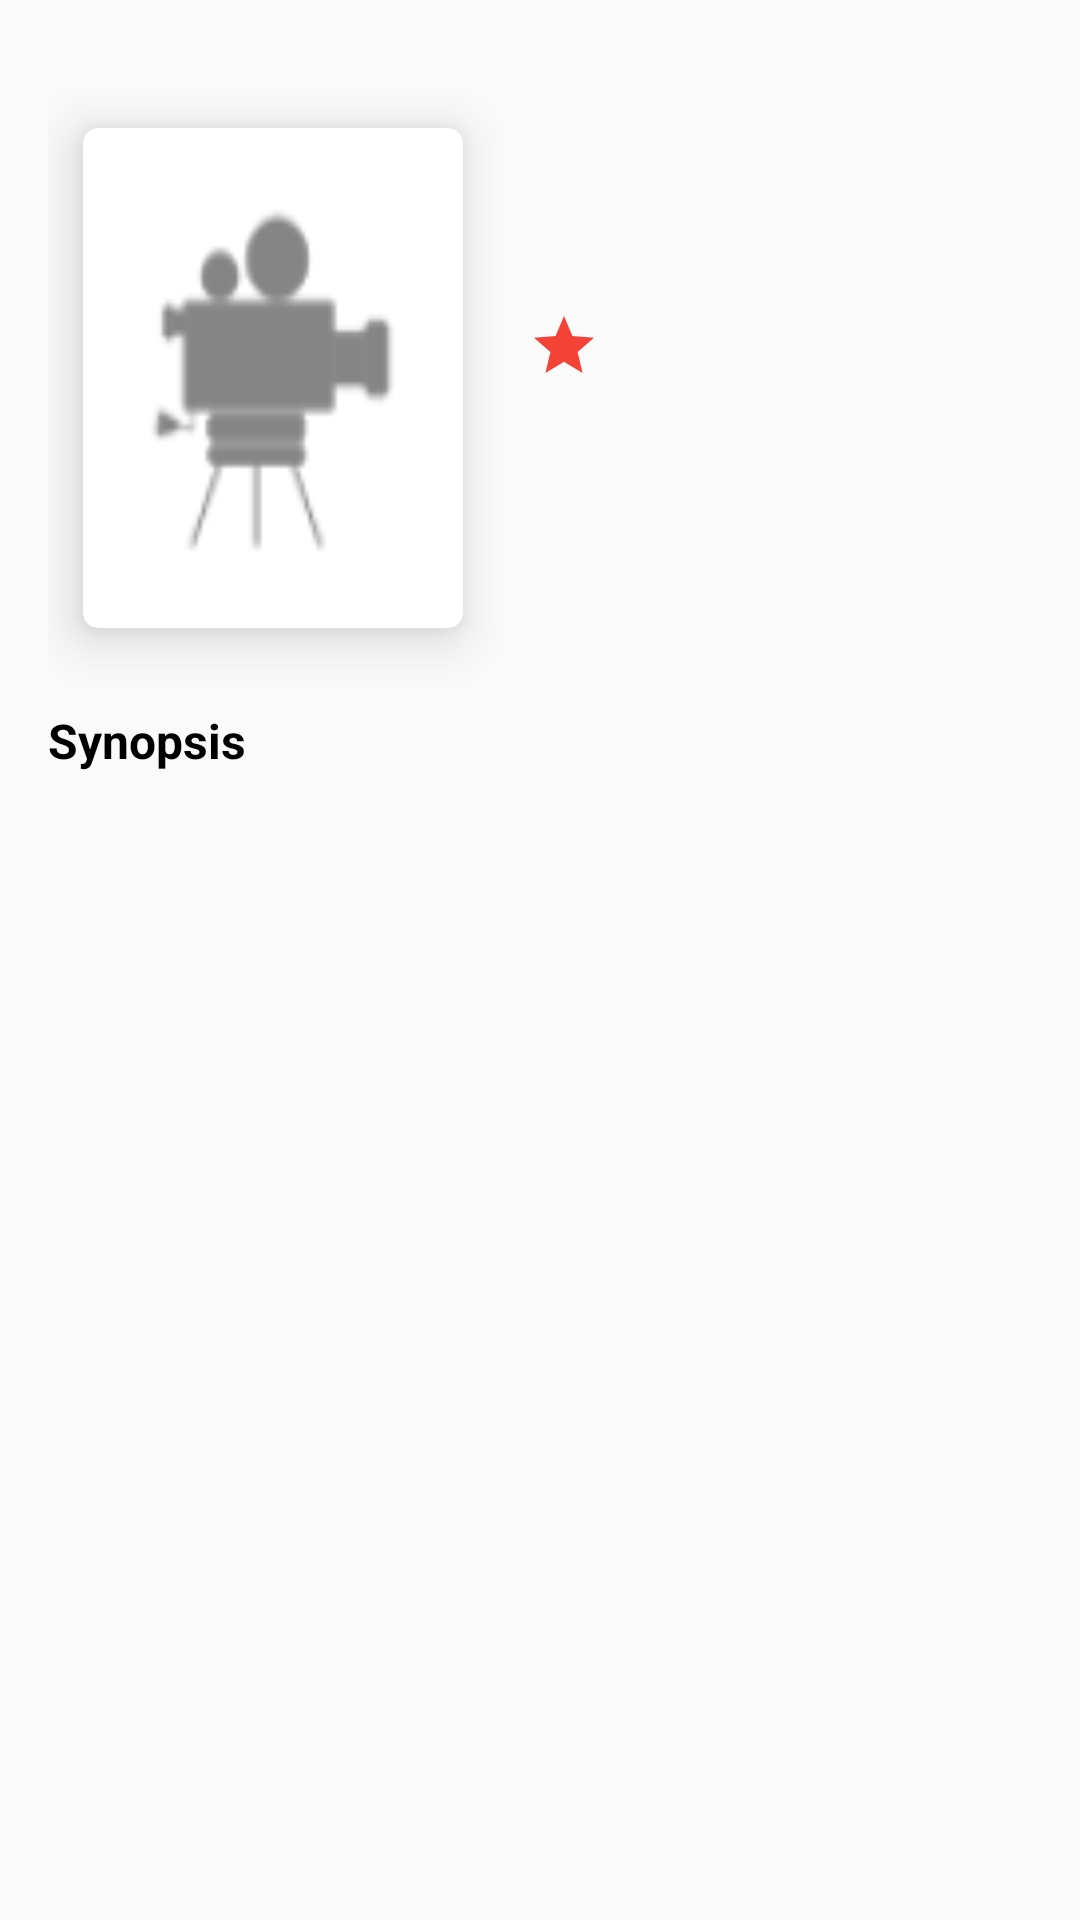

Where to tap for icons on this 1080 × 1920 app screen, as point (x, y):
Rating star: point (564, 344)
